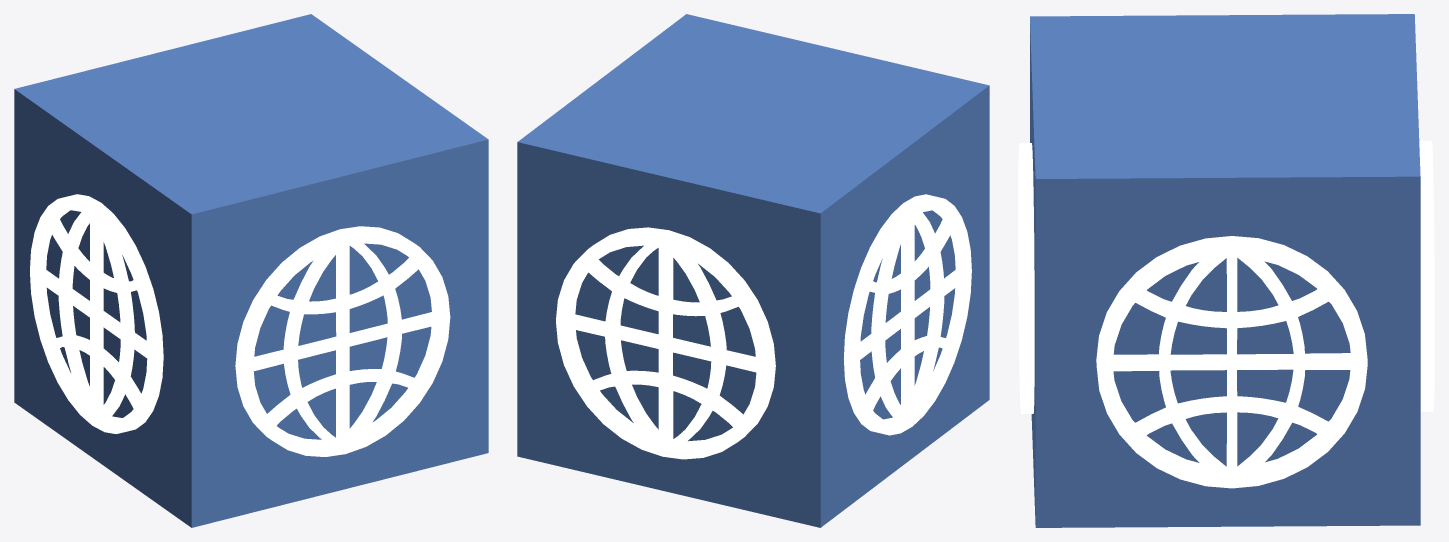
Rendered from web.glb.
3 views of the same model, side by side, from view 1: azimuth 30°, elevation 25°; view 2: azimuth 150°, elevation 25°; view 3: azimuth 270°, elevation 25° (orthographic). The views are drawn at different scales.
Parts seen in each view (by area): view 1: Cube.054; view 2: Cube.054; view 3: Cube.054.
Part boxes in pixels (x1=…): Cube.054: x1=14, y1=14, x2=488, y2=527; Cube.054: x1=517, y1=14, x2=989, y2=527; Cube.054: x1=1018, y1=14, x2=1434, y2=527.
Bounding box in the file's own units: 0.3839 × 0.3547 × 0.3839.
